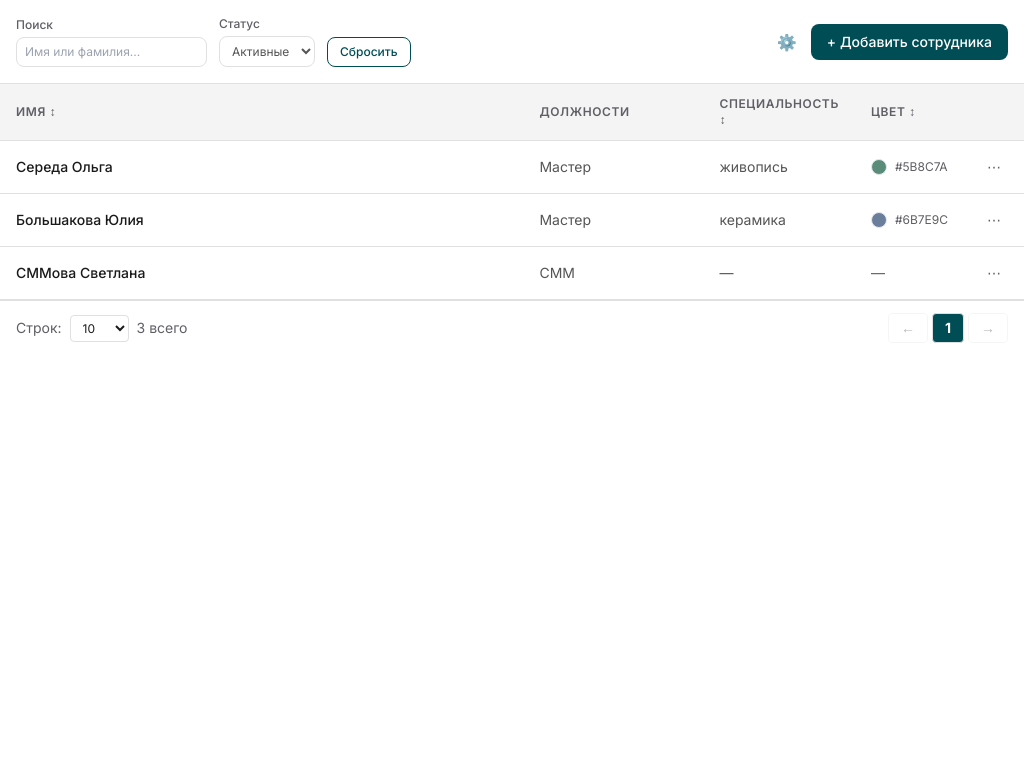
Scenario: StaffTable › "Архивировать" opens the D6 dismissal dialog with both checkboxes preselected
The image size is (1024, 768).
Expected: the text "Середа Ольга" is shown, [16, 158, 113, 175]
Click the button named "Действия". click: {"x": 994, "y": 167}
box: [980, 153, 1008, 181]
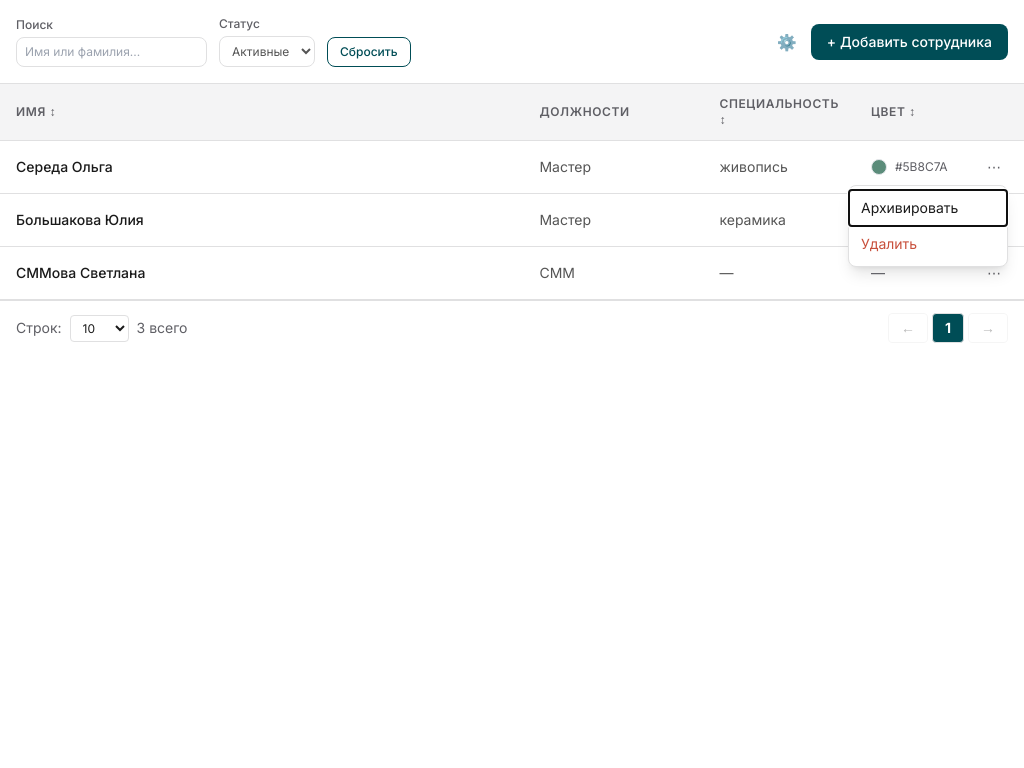
Click the menu item "Архивировать". click: {"x": 928, "y": 208}
box: [849, 190, 1007, 226]
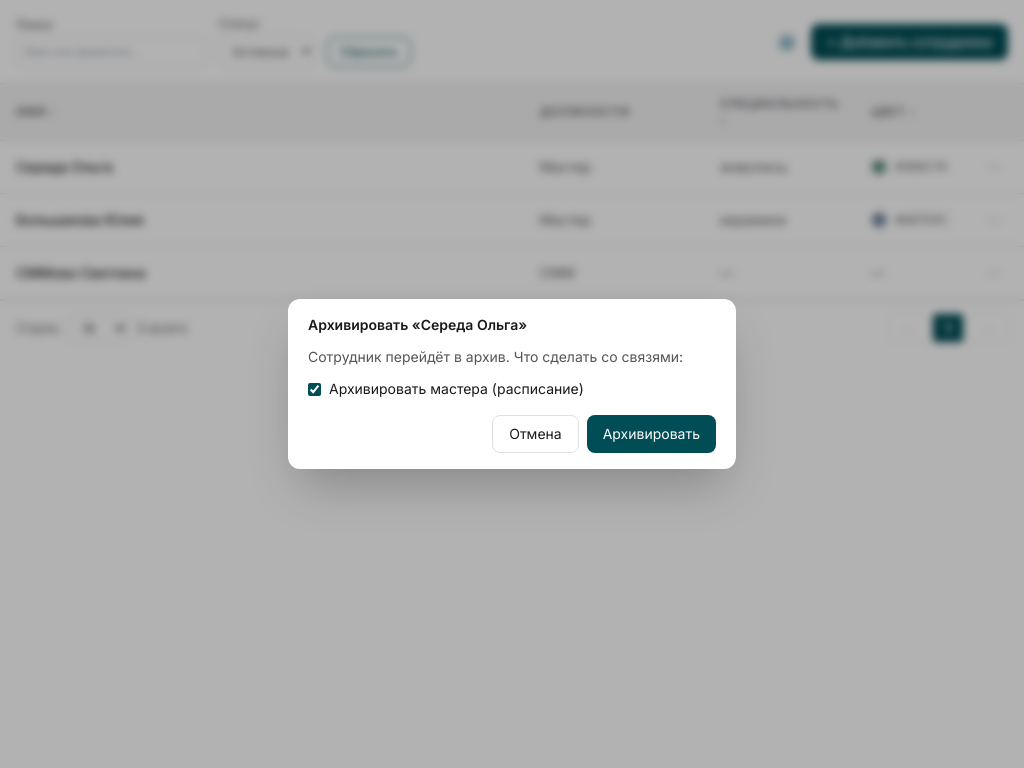
Expected: the checkbox with test id "archive-master-checkbox" is checked, [308, 382, 321, 396]
